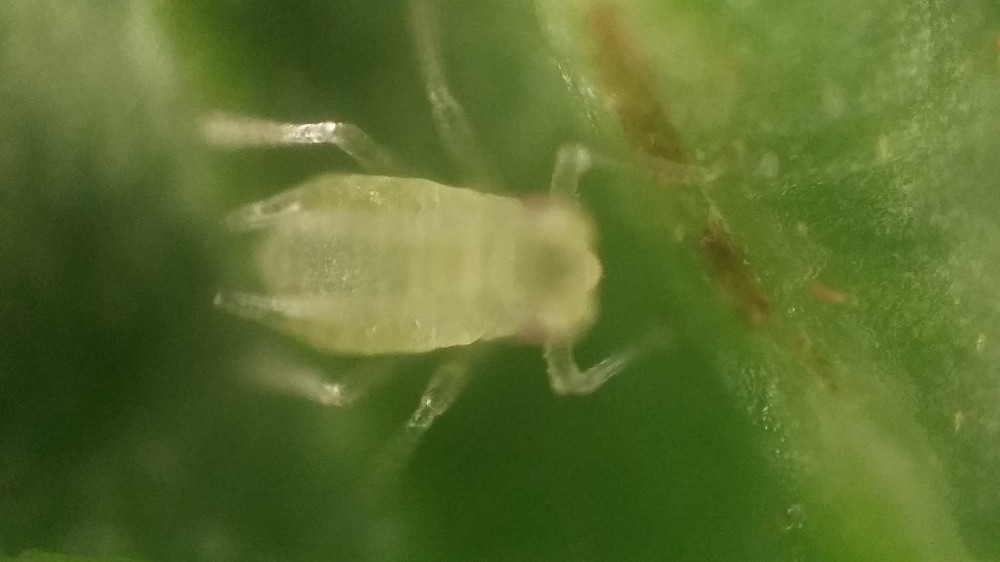Pulgon: (171, 37, 803, 513)
